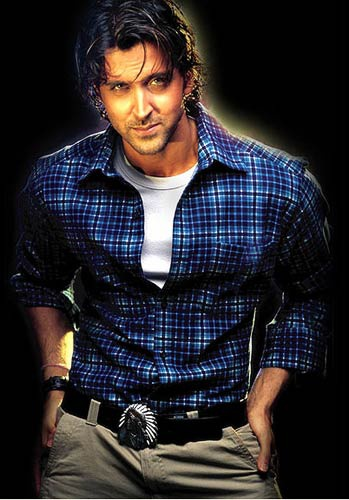bad: (96, 66, 185, 156)
